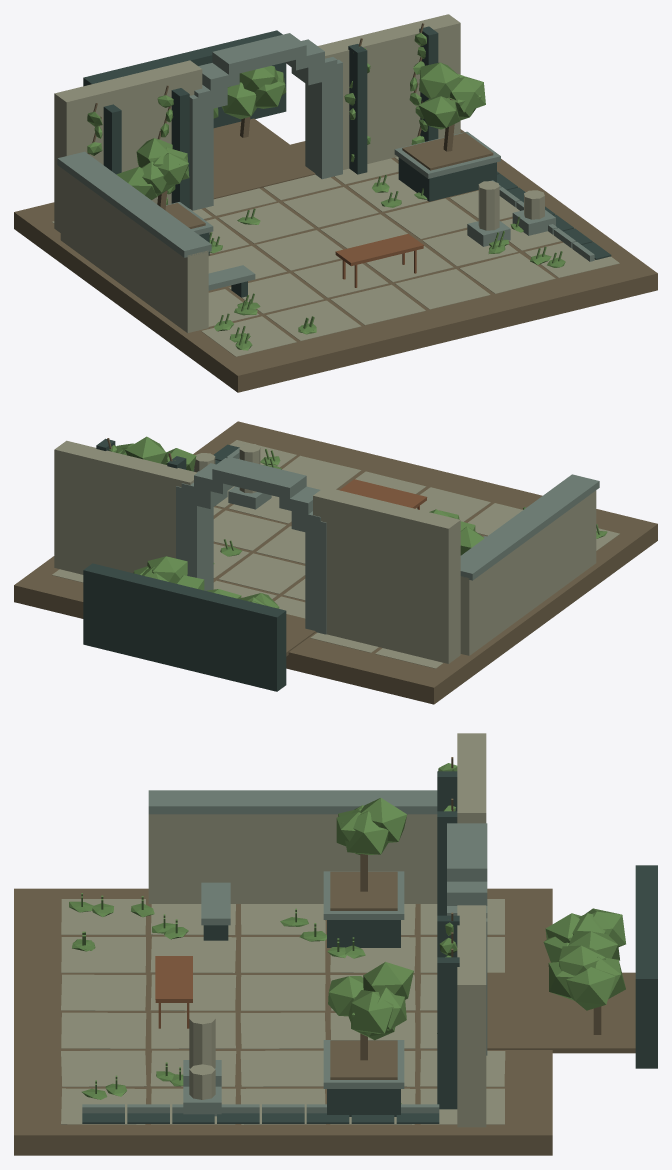
The model's file is world-starter-overgrown-courtyard.glb.
The picture shows the model from 3 angles, top to bottom: view 1: azimuth 30°, elevation 25°; view 2: azimuth 150°, elevation 25°; view 3: azimuth 270°, elevation 25°; orthographic projection. The views are drawn at different scales.
Visible parts, largest first — view 1: courtyard.base, side.ruin, wall.right, wall.left, garden.beyond, side.ruin.cap, arch.pier.001, arch.pier, garden.wall, arch.lintel, wall.buttress.002, planter.001 (+47 smaller); view 2: courtyard.base, wall.left, garden.wall, wall.right, side.ruin, side.ruin.cap, arch.pier.001, arch.pier, arch.lintel, paving.block.018, paving.block.022, paving.block.020 (+20 smaller); view 3: courtyard.base, side.ruin, garden.beyond, side.ruin.cap, wall.right, garden.wall, wall.buttress.003, paving.block.015, paving.block.010, paving.block.017, paving.block.020, paving.block.012 (+50 smaller).
Part boxes in pixels (x1,y1,x2,y2): courtyard.base: (14,129,657,392); side.ruin: (60,168,208,333); wall.right: (318,14,460,169); wall.left: (54,60,202,232); garden.beyond: (213,118,315,199); side.ruin.cap: (57,151,211,257); arch.pier.001: (305,59,342,179); arch.pier: (189,94,213,210); garden.wall: (83,30,286,127); arch.lintel: (212,33,306,75); wall.buttress.002: (348,44,367,174); planter.001: (398,157,496,201); courtyard.base: (14,421,657,704); wall.left: (313,487,460,663); garden.wall: (83,563,286,691); wall.right: (54,440,196,574); side.ruin: (460,490,596,655); side.ruin.cap: (460,474,599,580); arch.pier.001: (176,486,213,590); arch.pier: (305,518,326,634); arch.lintel: (212,457,306,498); paving.block.018: (218,553,305,593); paving.block.022: (213,510,286,550); paving.block.020: (282,455,361,489); courtyard.base: (14,888,552,1155); side.ruin: (148,814,437,903); garden.beyond: (487,972,635,1053); side.ruin.cap: (148,790,437,814); wall.right: (457,905,486,1127); garden.wall: (635,865,657,1068); wall.buttress.003: (437,957,459,1109); paving.block.015: (61,1012,146,1048); paving.block.010: (61,974,146,1011); paving.block.017: (240,1012,325,1048); paving.block.020: (61,1050,146,1086); paving.block.012: (241,975,325,1010).
Bounding box in the file's own units: 13 × 4.59 × 14.35.
